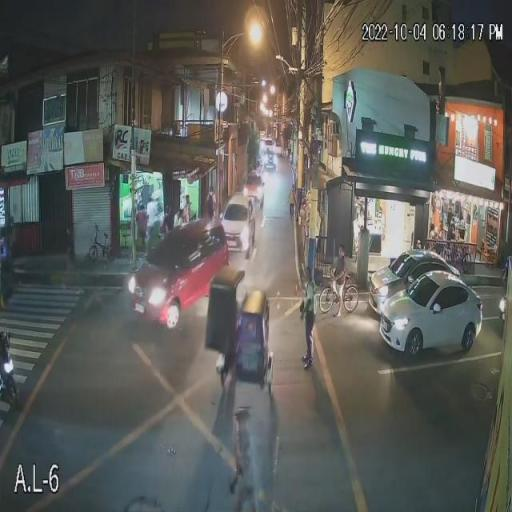motorcycle: (0, 352, 18, 413)
rider: (330, 246, 350, 311), (0, 329, 10, 368)
